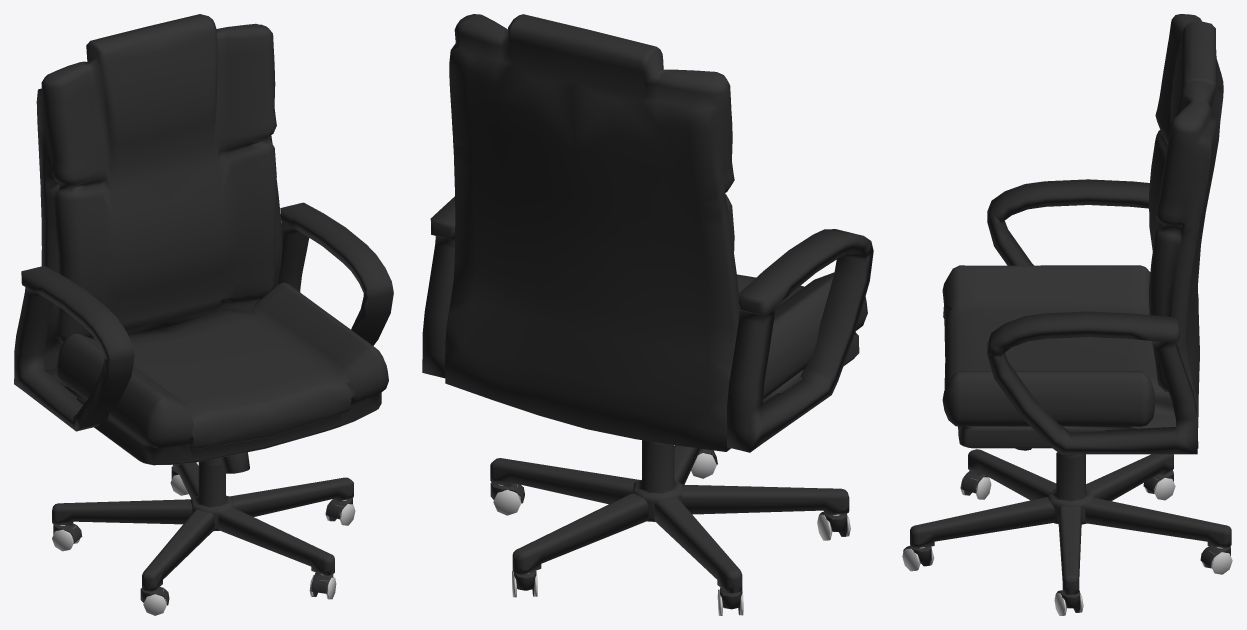
The model's file is chair.gltf.
The picture shows the model from 3 angles, left to right: view 1: azimuth 30°, elevation 25°; view 2: azimuth 150°, elevation 25°; view 3: azimuth 270°, elevation 25°; orthographic projection. The views are drawn at different scales.
Visible parts, largest first — view 1: ChairBack_LP, ChairSeat_LP4, pCube37, pCube38, Leg_LP2, Leg_LP5, Leg_LP4, Leg_LP1, Underside_LP, Leg_LP3; view 2: ChairBack_LP, pCube37, ChairSeat_LP4, Leg_LP1, Leg_LP3, pCube38, Leg_LP4, Leg_LP2, Underside_LP, Leg_LP5; view 3: ChairSeat_LP4, ChairBack_LP, pCube38, pCube37, Leg_LP3, Leg_LP5, Leg_LP1, Leg_LP2, Underside_LP, Leg_LP4.
Part boxes in pixels (box(x1,y1,x2,y2)): ChairBack_LP: box(36, 14, 282, 371); ChairSeat_LP4: box(46, 282, 388, 465); pCube37: box(14, 265, 134, 431); pCube38: box(278, 202, 393, 345); Leg_LP2: box(52, 499, 192, 525); Leg_LP5: box(218, 508, 334, 575); Leg_LP4: box(229, 477, 353, 516); Leg_LP1: box(142, 509, 214, 591); Underside_LP: box(190, 452, 249, 531); Leg_LP3: box(173, 462, 198, 498); ChairBack_LP: box(445, 14, 739, 451); pCube37: box(727, 229, 873, 452); ChairSeat_LP4: box(737, 272, 867, 402); Leg_LP1: box(682, 484, 849, 515); Leg_LP3: box(512, 493, 648, 574); pCube38: box(422, 196, 455, 378); Leg_LP4: box(490, 458, 640, 504); Leg_LP2: box(654, 497, 742, 593); Underside_LP: box(632, 440, 683, 521); Leg_LP5: box(674, 445, 702, 484); ChairSeat_LP4: box(942, 265, 1175, 448); ChairBack_LP: box(1149, 14, 1223, 448); pCube38: box(987, 311, 1197, 454); pCube37: box(987, 179, 1149, 265); Leg_LP3: box(1085, 498, 1231, 547); Leg_LP5: box(910, 497, 1055, 547); Leg_LP1: box(968, 449, 1056, 500); Leg_LP2: box(1086, 454, 1173, 500); Underside_LP: box(1015, 448, 1095, 524); Leg_LP4: box(1058, 505, 1081, 594).
Size of the model in its own units: 0.7162 by 1.16 by 0.6948.
Materials: 1 (1 with a texture image).
